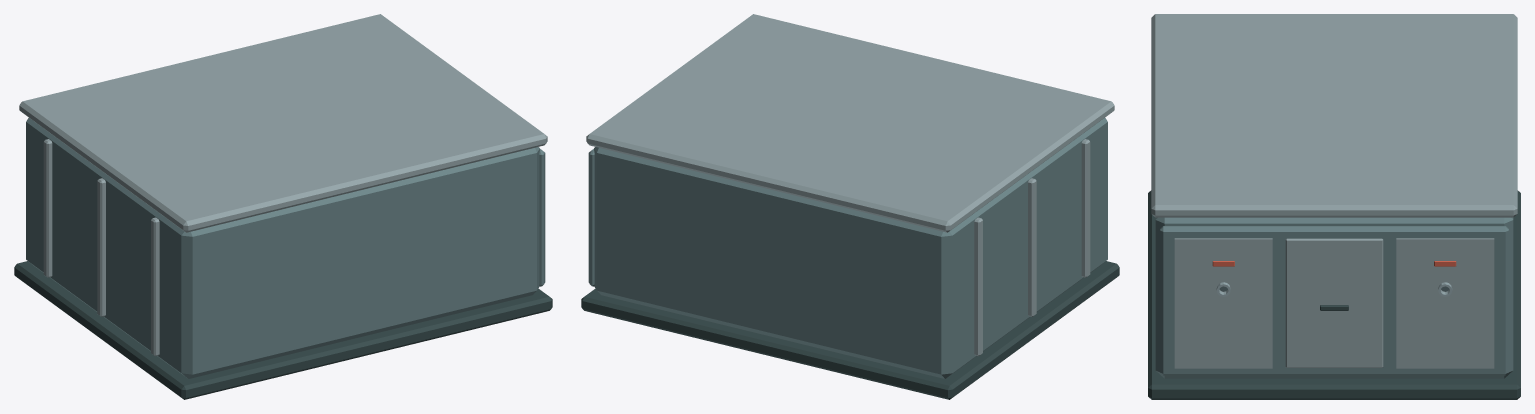
The model's file is Systems-MaintenanceHousing.fbx.
The picture shows the model from 3 angles, left to right: view 1: azimuth 30°, elevation 25°; view 2: azimuth 150°, elevation 25°; view 3: azimuth 270°, elevation 25°; orthographic projection. The views are drawn at different scales.
Visible parts, largest first — view 1: Main Enclosure, Top Cap, Base Plinth, Rear Vertical Rib.002, Rear Vertical Rib, Rear Vertical Rib.001, Service Face; view 2: Main Enclosure, Top Cap, Base Plinth, Rear Vertical Rib, Rear Vertical Rib.001, Rear Vertical Rib.002, Service Face; view 3: Top Cap, Service Face, Service Panel with Pipe Opening, Service Panel with Pipe Opening.001, Service Panel Inset, Base Plinth, Main Enclosure.
Part boxes in pixels (box(x1,y1,x2,y2)): Main Enclosure: box(26, 118, 539, 378); Top Cap: box(19, 14, 547, 232); Base Plinth: box(14, 261, 552, 399); Rear Vertical Rib.002: box(43, 139, 52, 277); Rear Vertical Rib: box(151, 217, 159, 356); Rear Vertical Rib.001: box(97, 178, 105, 316); Service Face: box(539, 149, 545, 286); Main Enclosure: box(594, 118, 1107, 378); Top Cap: box(586, 14, 1114, 232); Base Plinth: box(581, 261, 1119, 399); Rear Vertical Rib: box(1081, 139, 1090, 277); Rear Vertical Rib.001: box(1028, 178, 1036, 316); Rear Vertical Rib.002: box(974, 217, 982, 356); Service Face: box(588, 149, 594, 286); Top Cap: box(1151, 14, 1517, 217); Service Face: box(1160, 226, 1508, 375); Service Panel with Pipe Opening: box(1174, 238, 1272, 368); Service Panel with Pipe Opening.001: box(1396, 238, 1494, 368); Service Panel Inset: box(1285, 238, 1383, 367); Base Plinth: box(1148, 190, 1520, 399); Main Enclosure: box(1155, 217, 1513, 378).
Size of the model in its own units: 4.44 by 2 by 3.5.
